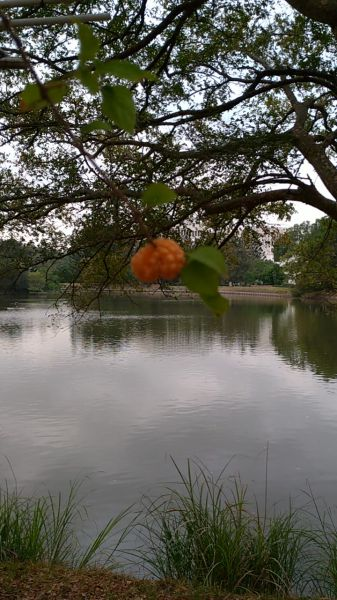eggs: (123, 233, 188, 289)
